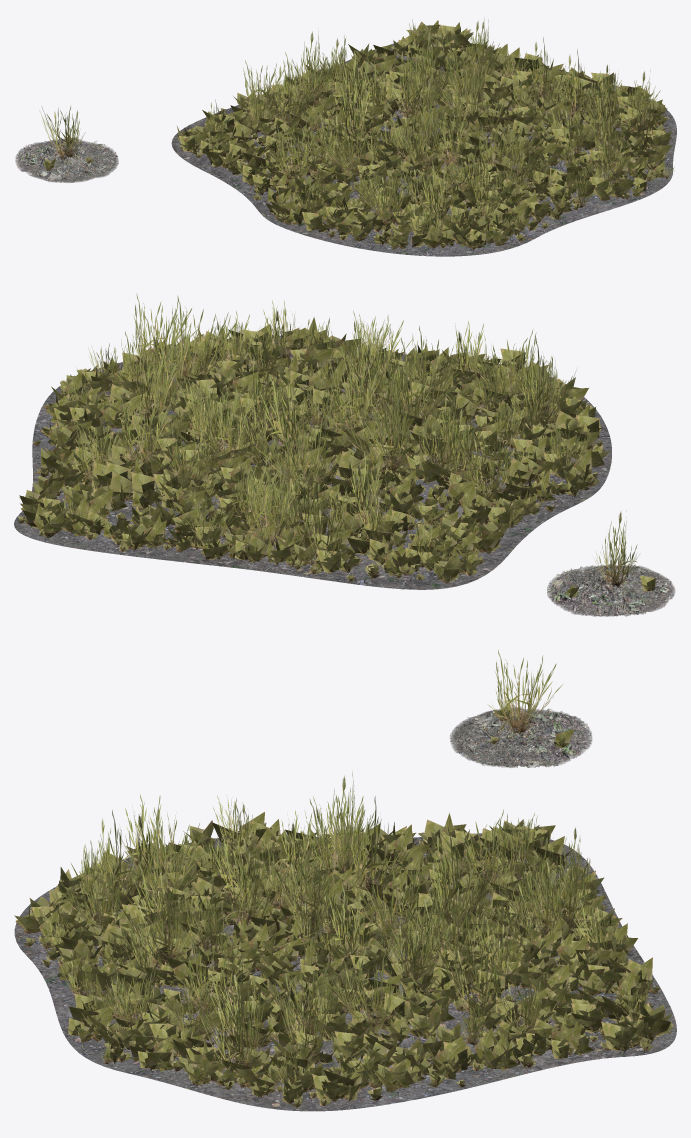
File: simple_grass_chunks.glb
3 views of the same model, one above another, from view 1: azimuth 30°, elevation 25°; view 2: azimuth 150°, elevation 25°; view 3: azimuth 270°, elevation 25° (orthographic). The views are drawn at different scales.
Visible parts, largest first — view 1: Forest001_rostlinka12_2k_0, rostlinka_7c_scater_rostlinka_07c_0, ground_close_04_ground_close_04_0, rostlinka_07_ground_rostlinka_07_ground_0, rostlinka_07c_rostlinka_07c_0; view 2: Forest001_rostlinka12_2k_0, rostlinka_7c_scater_rostlinka_07c_0, ground_close_04_ground_close_04_0, rostlinka_07_ground_rostlinka_07_ground_0, rostlinka_07c_rostlinka_07c_0; view 3: Forest001_rostlinka12_2k_0, rostlinka_7c_scater_rostlinka_07c_0, ground_close_04_ground_close_04_0, rostlinka_07_ground_rostlinka_07_ground_0, rostlinka_07c_rostlinka_07c_0.
Part boxes in pixels (left/top/right/bottom): Forest001_rostlinka12_2k_0: left=177, top=20, right=671, bottom=249; rostlinka_7c_scater_rostlinka_07c_0: left=191, top=17, right=674, bottom=234; ground_close_04_ground_close_04_0: left=171, top=42, right=676, bottom=256; rostlinka_07_ground_rostlinka_07_ground_0: left=15, top=137, right=118, bottom=182; rostlinka_07c_rostlinka_07c_0: left=39, top=106, right=85, bottom=160; Forest001_rostlinka12_2k_0: left=17, top=317, right=609, bottom=583; rostlinka_7c_scater_rostlinka_07c_0: left=59, top=293, right=593, bottom=567; ground_close_04_ground_close_04_0: left=14, top=335, right=611, bottom=589; rostlinka_07_ground_rostlinka_07_ground_0: left=547, top=564, right=675, bottom=616; rostlinka_07c_rostlinka_07c_0: left=594, top=510, right=638, bottom=589; Forest001_rostlinka12_2k_0: left=14, top=812, right=673, bottom=1107; rostlinka_7c_scater_rostlinka_07c_0: left=45, top=772, right=652, bottom=1087; ground_close_04_ground_close_04_0: left=14, top=833, right=676, bottom=1111; rostlinka_07_ground_rostlinka_07_ground_0: left=450, top=706, right=592, bottom=767; rostlinka_07c_rostlinka_07c_0: left=487, top=649, right=562, bottom=734.
Bounding box in the file's own units: 3.75 × 0.7452 × 2.76.
4 materials, 4 textured.
